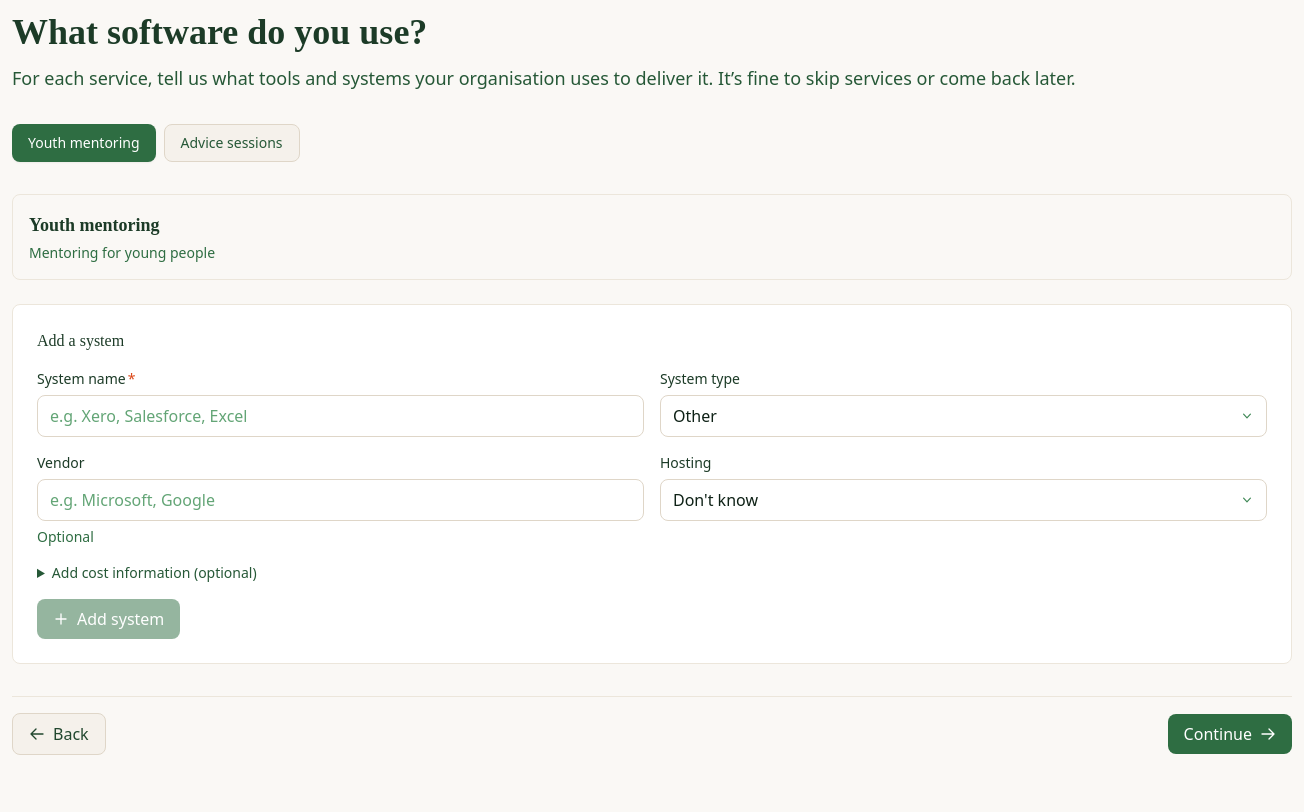
Test case: ServiceSystems › adds a system to the current service
Step 1. Type "Lamplight" into the field labelled "System name*" → point(340, 416), box x1=37 y1=395 x2=644 y2=437
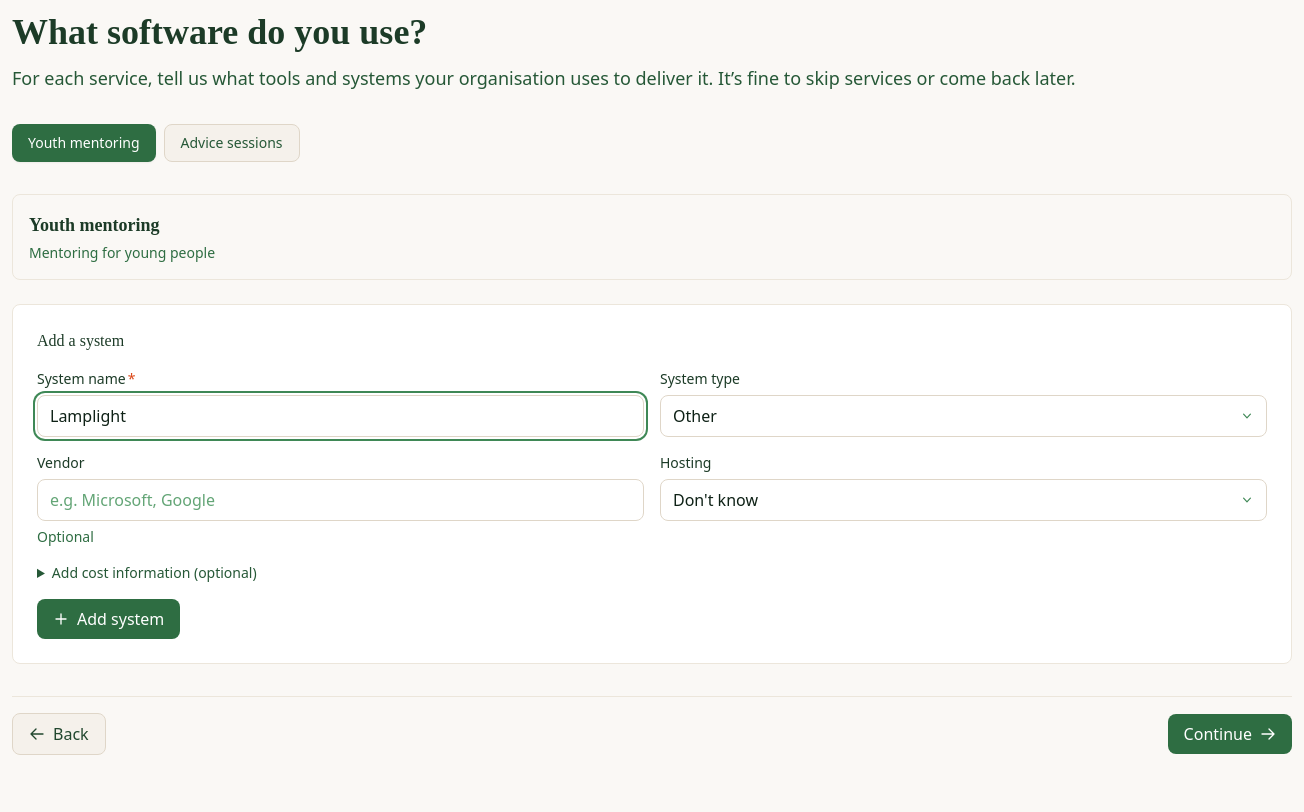
Step 2. Click the button "Add system" → point(109, 619), box x1=37 y1=599 x2=180 y2=639
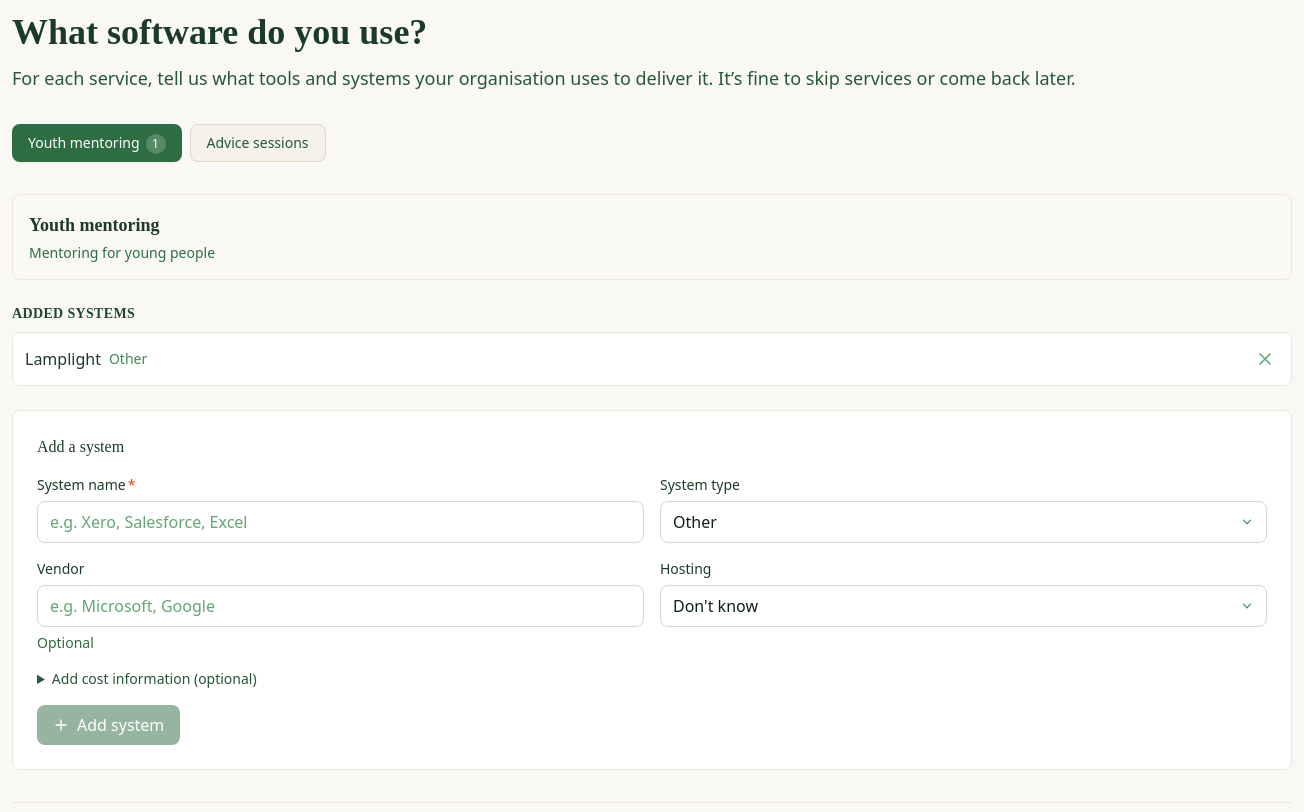
Now the text "Lamplight" is shown, box x1=25 y1=347 x2=101 y2=371
